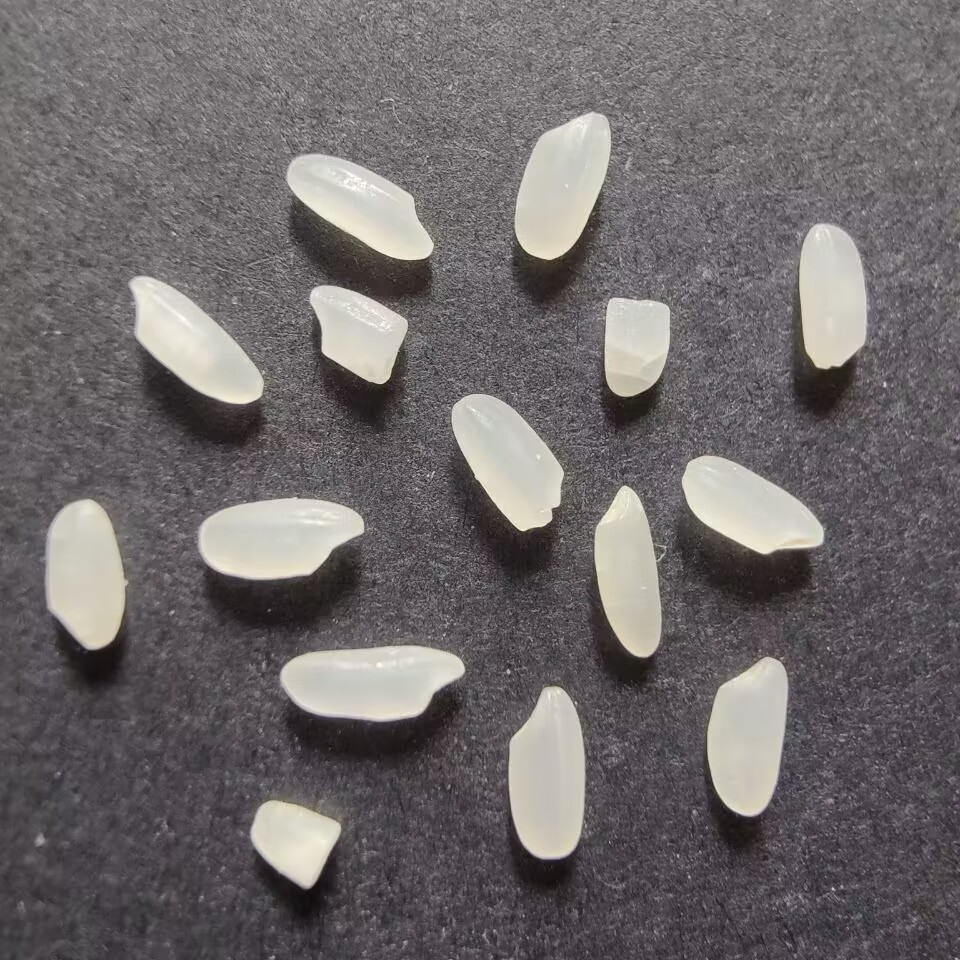broken: (301, 283, 415, 391), (246, 797, 349, 894), (597, 292, 677, 398)
rice: (122, 268, 268, 412), (279, 152, 438, 263), (508, 106, 619, 264), (449, 393, 571, 536), (676, 451, 834, 558), (189, 492, 372, 584), (274, 641, 467, 727), (500, 679, 589, 864), (586, 480, 675, 663), (34, 493, 131, 660), (700, 653, 791, 822), (797, 215, 872, 377)
